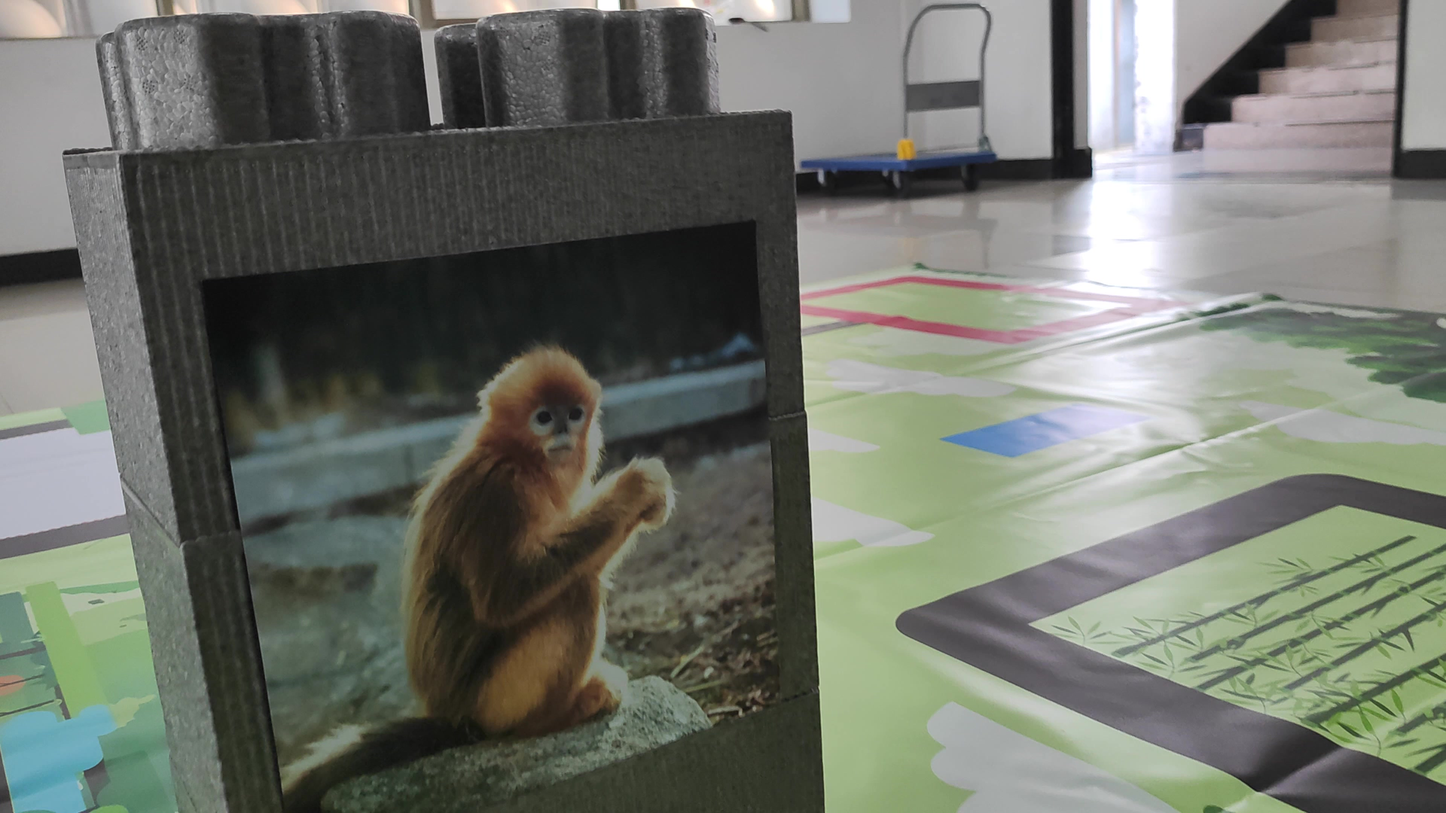monkey: (268, 314, 689, 789)
